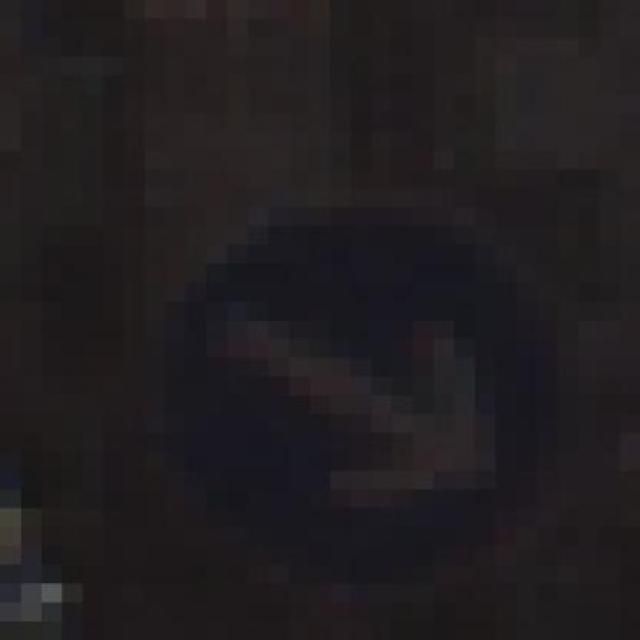Keep-Right: (124, 150, 578, 602)
